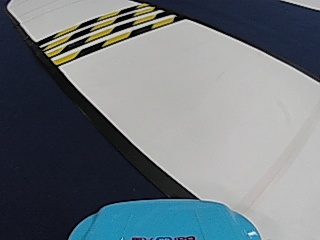bump: (49, 7, 164, 64)
